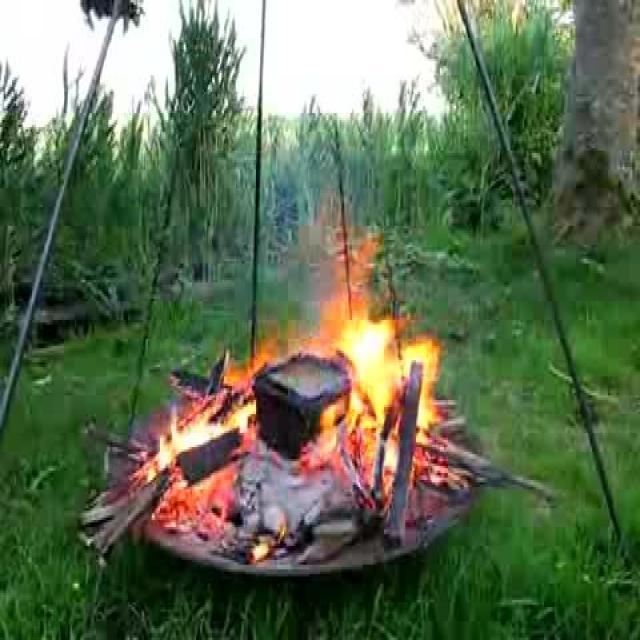Fire: (335, 291, 437, 446)
